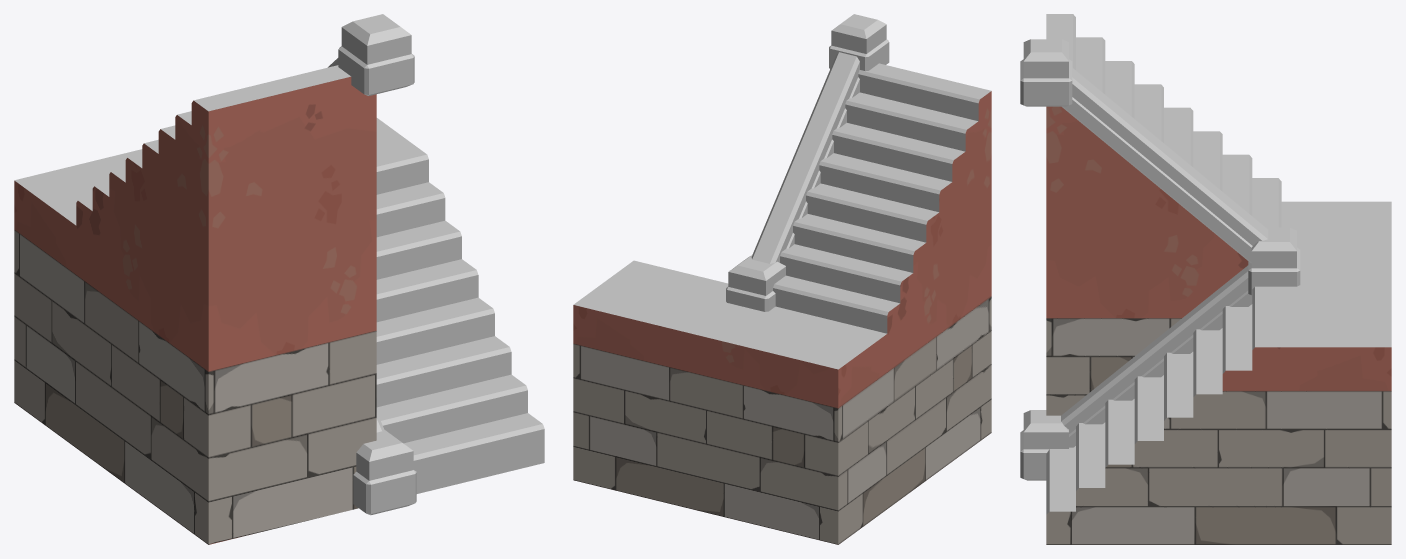
The model's file is SM_Bld_Stairs_Corner_02.fbx.
3 views of the same model, side by side, from view 1: azimuth 30°, elevation 25°; view 2: azimuth 150°, elevation 25°; view 3: azimuth 270°, elevation 25° (orthographic). The views are drawn at different scales.
Parts seen in each view (by area): view 1: SM_Bld_Stairs_Corner_02; view 2: SM_Bld_Stairs_Corner_02; view 3: SM_Bld_Stairs_Corner_02.
Part boxes in pixels (x1,y1,x2,y2): SM_Bld_Stairs_Corner_02: (14, 14, 544, 544); SM_Bld_Stairs_Corner_02: (573, 14, 991, 544); SM_Bld_Stairs_Corner_02: (1020, 14, 1391, 544).
Bounding box in the file's own units: 250 × 341 × 269.
